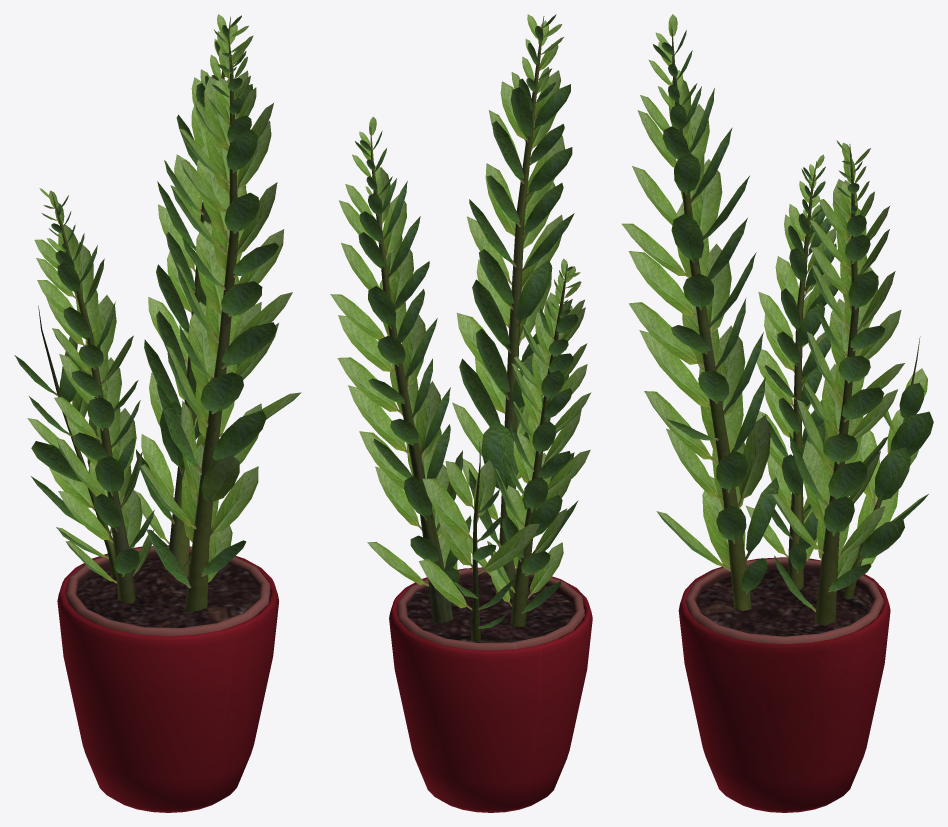
File: blend_indoorplant_03.glb
The picture shows the model from 3 angles, left to right: view 1: azimuth 30°, elevation 25°; view 2: azimuth 150°, elevation 25°; view 3: azimuth 270°, elevation 25°; orthographic projection. The views are drawn at different scales.
Visible parts, largest first — view 1: Circle; view 2: Circle; view 3: Circle.
Boxes of the visible parts, x1=… form: Circle: x1=14, y1=14, x2=301, y2=812; Circle: x1=330, y1=14, x2=592, y2=812; Circle: x1=621, y1=14, x2=933, y2=812.
Bounding box in the file's own units: 0.4373 × 1.4 × 0.5172.
1 material, 1 textured.
